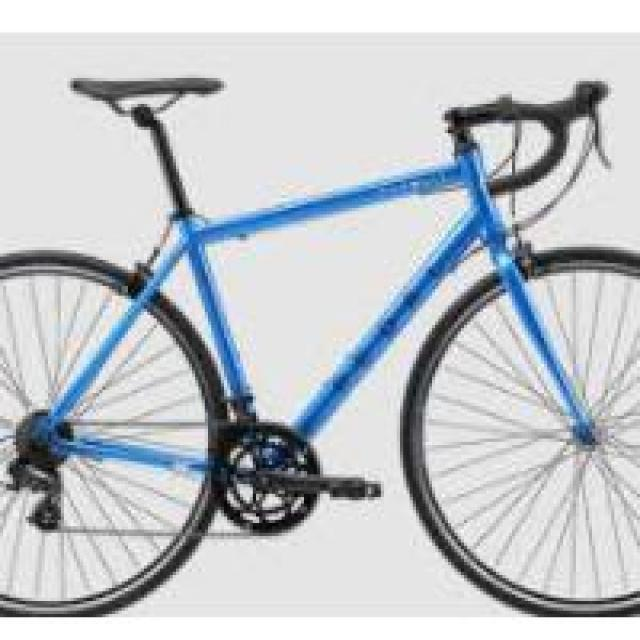bicycle: (4, 63, 640, 622)
